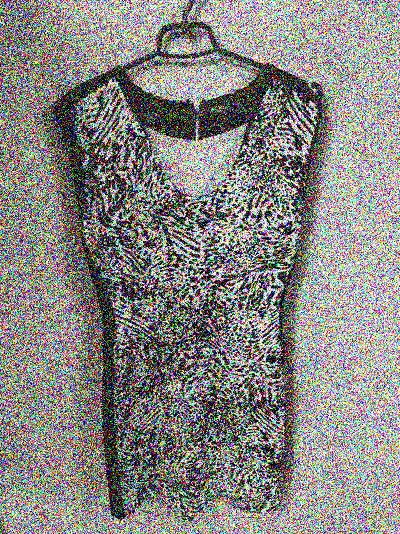Dress: (30, 31, 333, 522)
